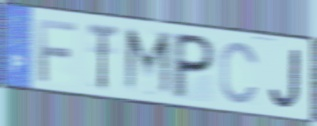C: (219, 40, 261, 107)
F: (36, 17, 78, 85)
J: (267, 46, 302, 111)
M: (122, 25, 175, 101)
P: (170, 30, 218, 102)
T: (86, 21, 120, 93)
